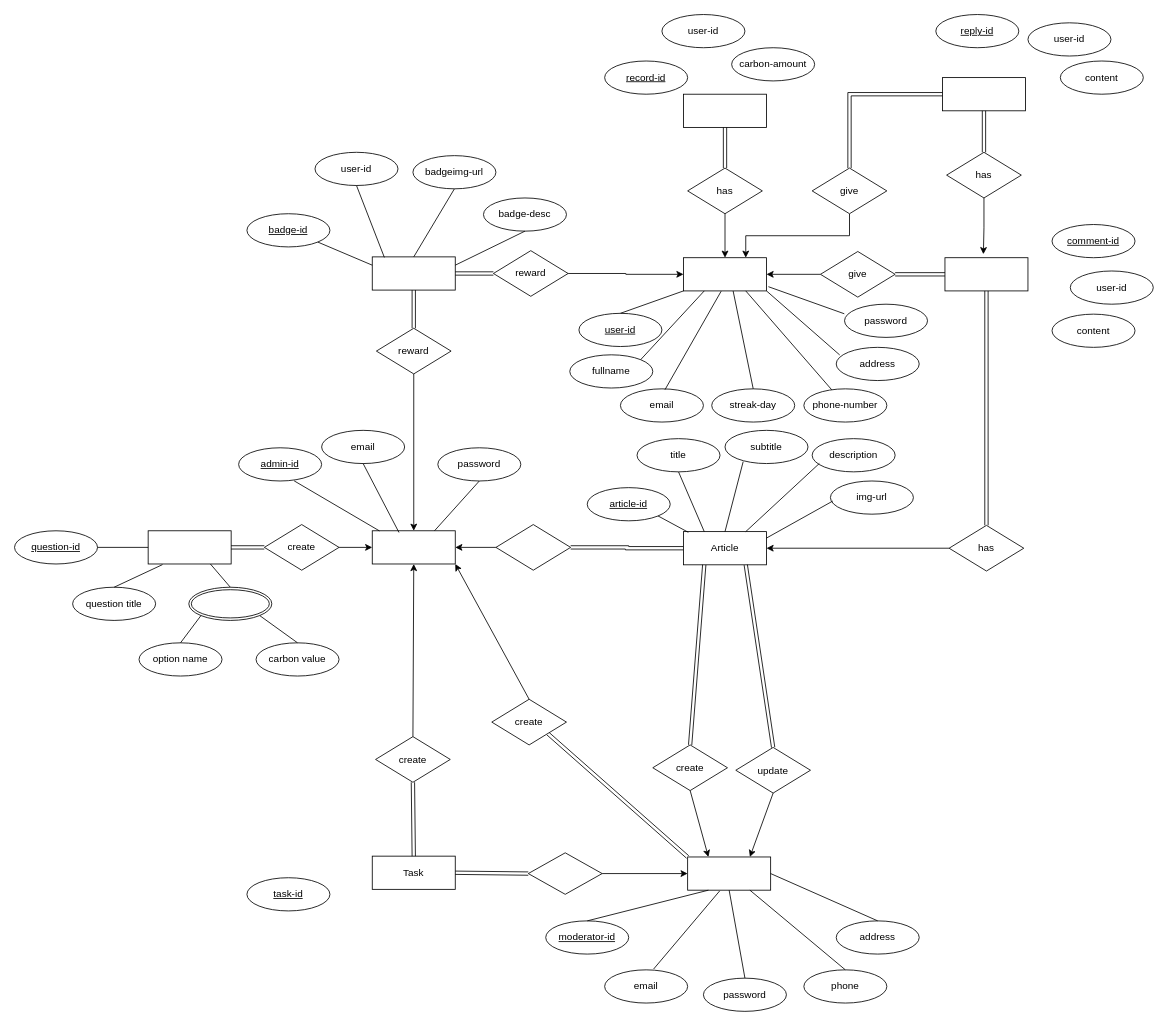
Some shapes in this 1168 by 1026 pixel diagram are drawn without their labels. The shapes that lost their labels are listed below. From the top down, each one's centre as x and y in pixels, then its label:
(x=725, y=110): Survey Record
(x=983, y=94): Reply
(x=413, y=273): Badge
(x=725, y=274): User
(x=986, y=274): Comment
(x=189, y=547): Question
(x=413, y=547): Admin
(x=533, y=547): review
(x=230, y=603): option
(x=564, y=873): assigned to
(x=729, y=873): Moderator
